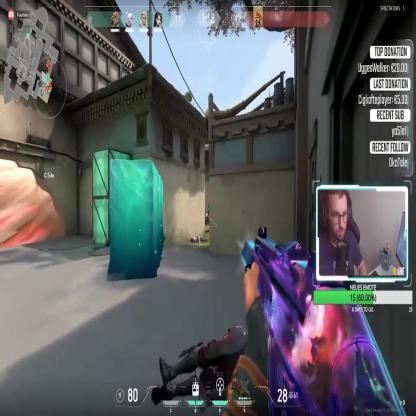enemy: (206, 202, 212, 225)
enemy_head: (208, 202, 210, 206)
